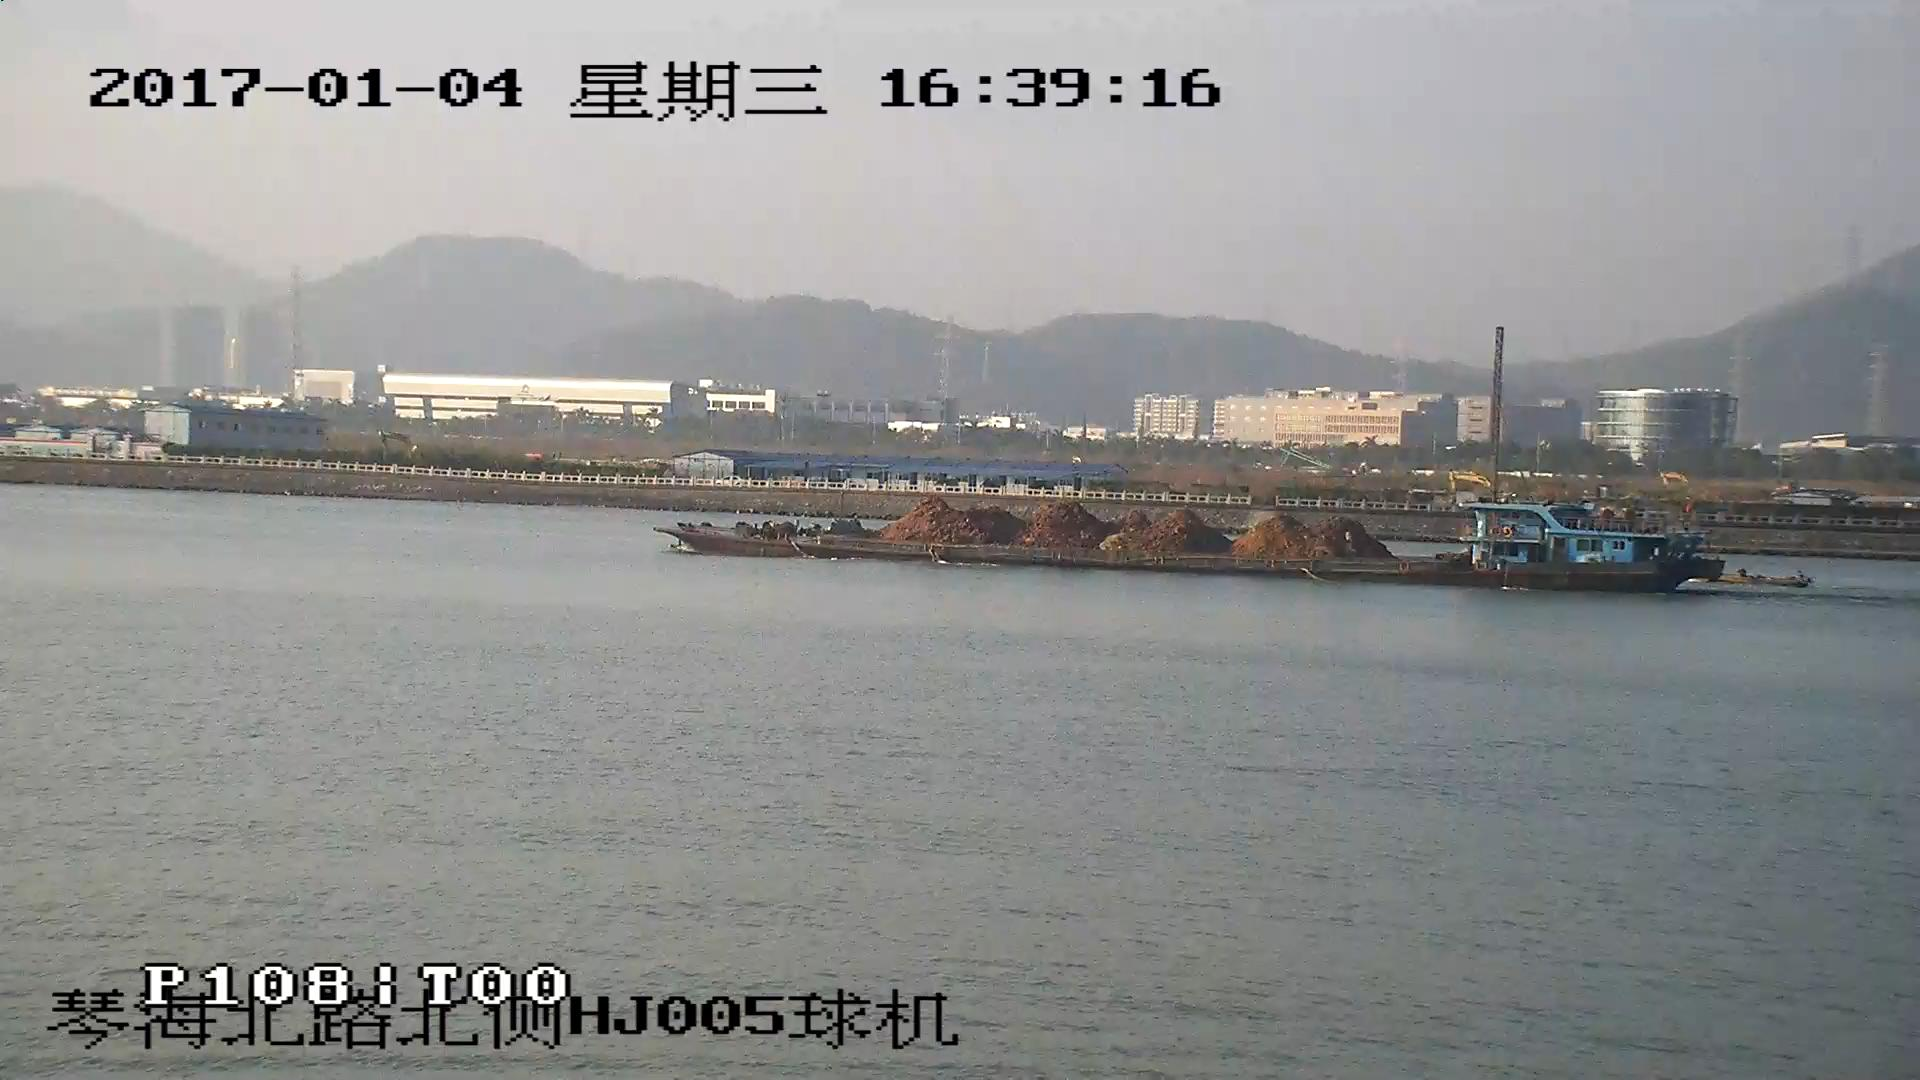ore carrier: (654, 498, 1725, 594)
